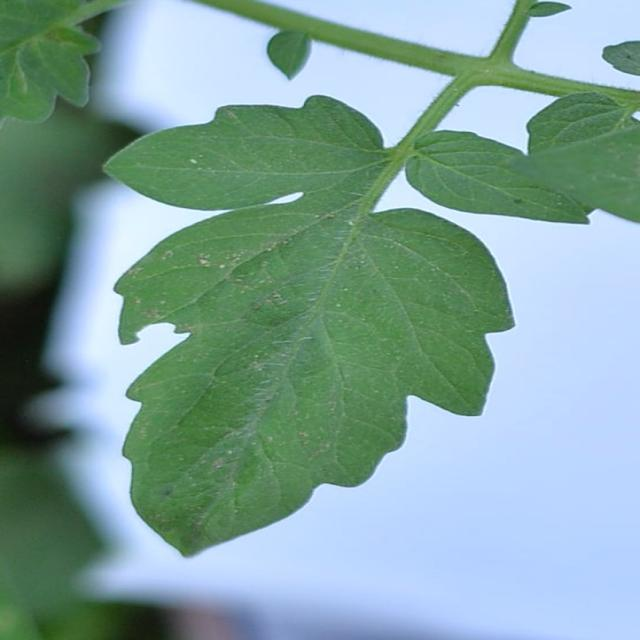healthy: (100, 88, 640, 561)
